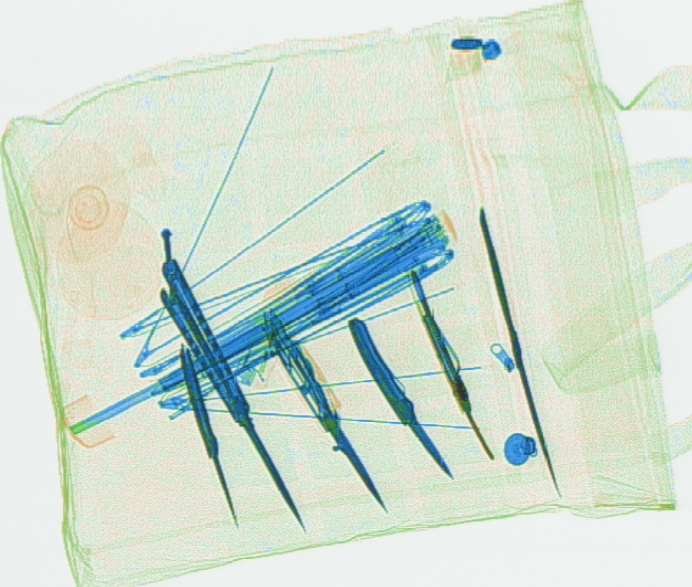knife: (156, 226, 307, 535), (260, 309, 386, 509), (478, 203, 562, 499), (344, 316, 452, 477), (404, 269, 494, 461), (172, 341, 237, 529)
